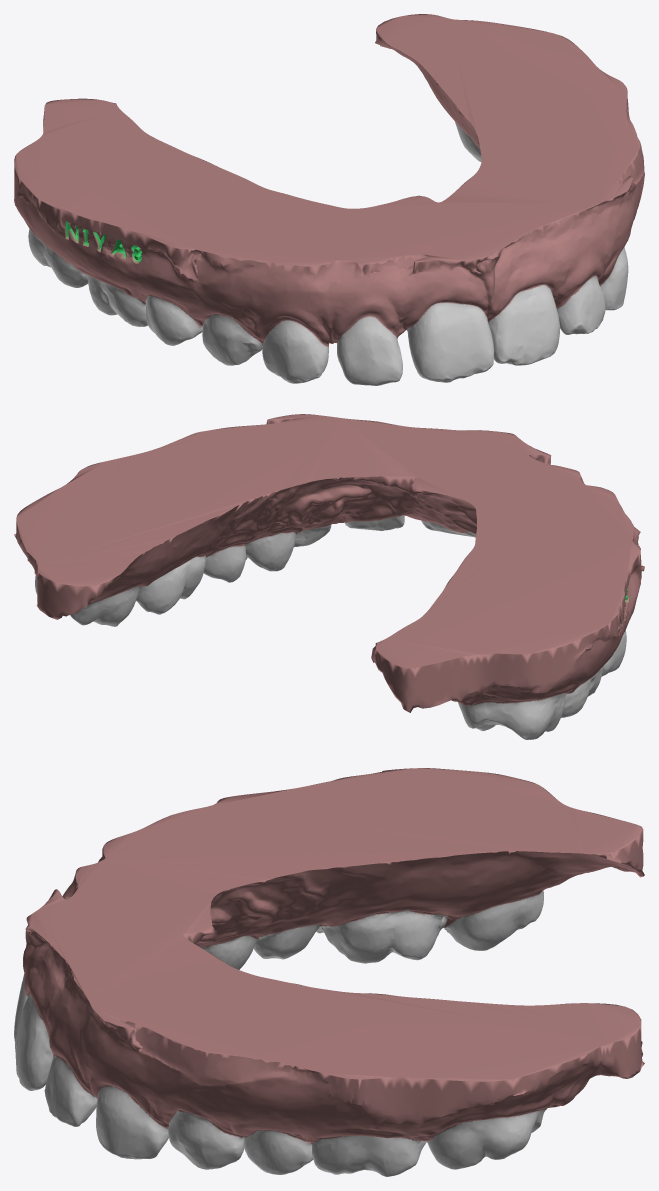
File: Niya Priority Upper jaw - 08 - Model.glb
3 renders of one model, top to bottom at view 1: azimuth 30°, elevation 25°; view 2: azimuth 150°, elevation 25°; view 3: azimuth 270°, elevation 25°, orthographic. The views are drawn at different scales.
Visible parts, largest first — view 1: Niya Priority Upper jaw - 08 - Model; view 2: Niya Priority Upper jaw - 08 - Model; view 3: Niya Priority Upper jaw - 08 - Model.
Boxes of the visible parts, bbox=[...] form: Niya Priority Upper jaw - 08 - Model: bbox=[14, 14, 644, 385]; Niya Priority Upper jaw - 08 - Model: bbox=[14, 414, 644, 739]; Niya Priority Upper jaw - 08 - Model: bbox=[14, 768, 644, 1176].
Size of the model in its own units: 66.35 by 13.71 by 56.39.
